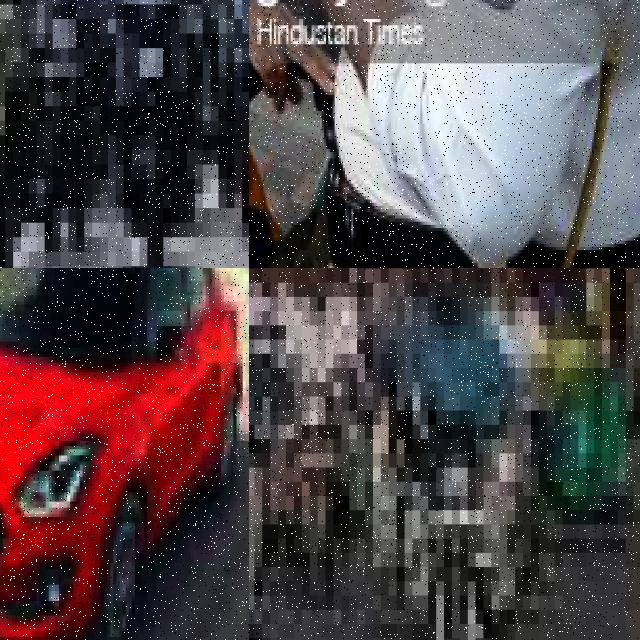bike: (249, 0, 420, 268), (404, 396, 515, 640), (116, 0, 203, 268), (37, 0, 100, 268), (278, 368, 357, 567), (44, 0, 92, 268), (0, 0, 37, 268)
car: (0, 268, 249, 640)
